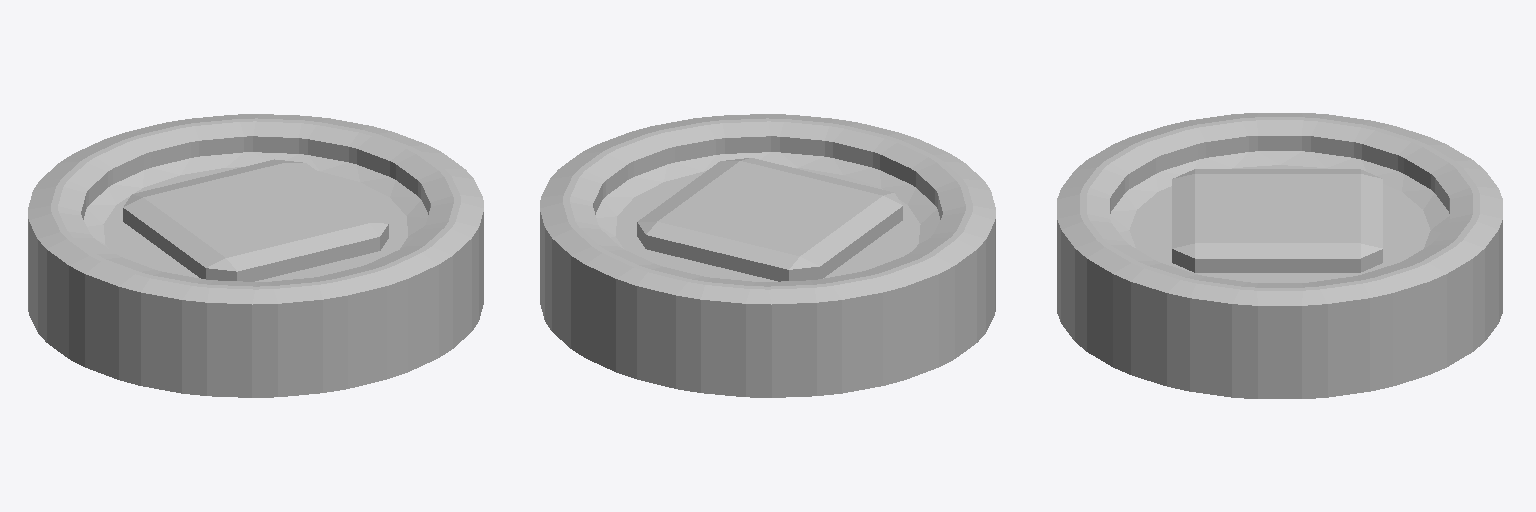
File: Coins.obj
3 views of the same model, side by side, from view 1: azimuth 30°, elevation 25°; view 2: azimuth 150°, elevation 25°; view 3: azimuth 270°, elevation 25° (orthographic).
Parts seen in each view (by area): view 1: Cylinder; view 2: Cylinder; view 3: Cylinder.
Part boxes in pixels (bbox=[...]): Cylinder: bbox=[28, 114, 483, 397]; Cylinder: bbox=[540, 114, 995, 397]; Cylinder: bbox=[1057, 113, 1502, 398].
Bounding box in the file's own units: 2.18 × 0.5459 × 2.12.